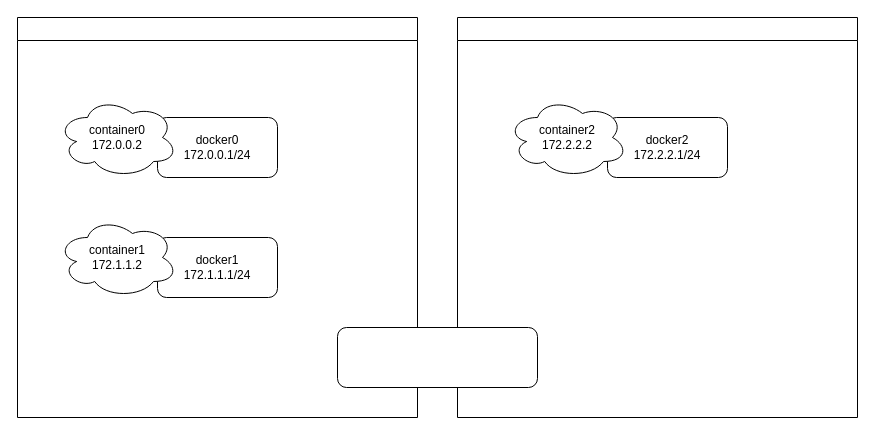
Image size: 875x435. Some labels were removed from this diagram. Here are the shapes that lost their labels. From the top down, the box of each, then its label:
(16, 16, 418, 418): VM 1
(456, 16, 858, 418): VM 2
(336, 326, 538, 388): enp0s3 enp0s3 10.0.2.16/24 10.0.2.17/24
